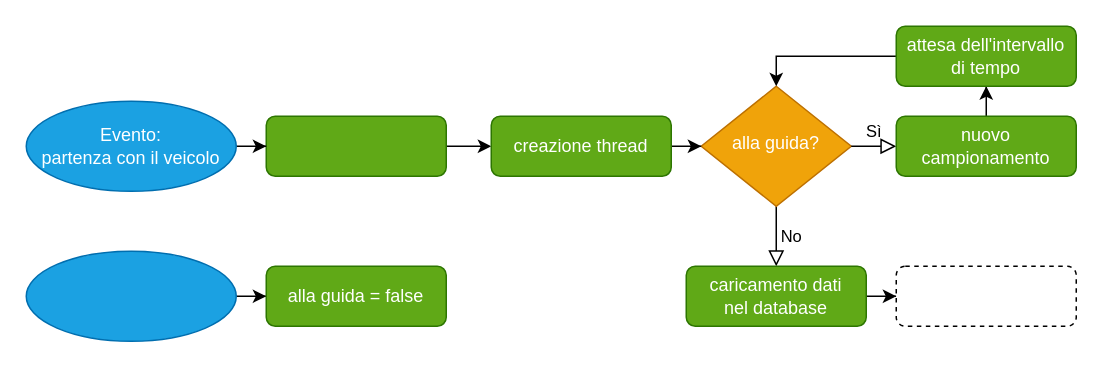
Image size: 1103x368. Some labels were removed from this diagram. Each missing label, with the box of its shape:
alla guida = true: (265, 115, 446, 176)
Evento: parcheggio effettuato: (25, 250, 236, 341)
presentazione notifica: (895, 265, 1076, 326)
